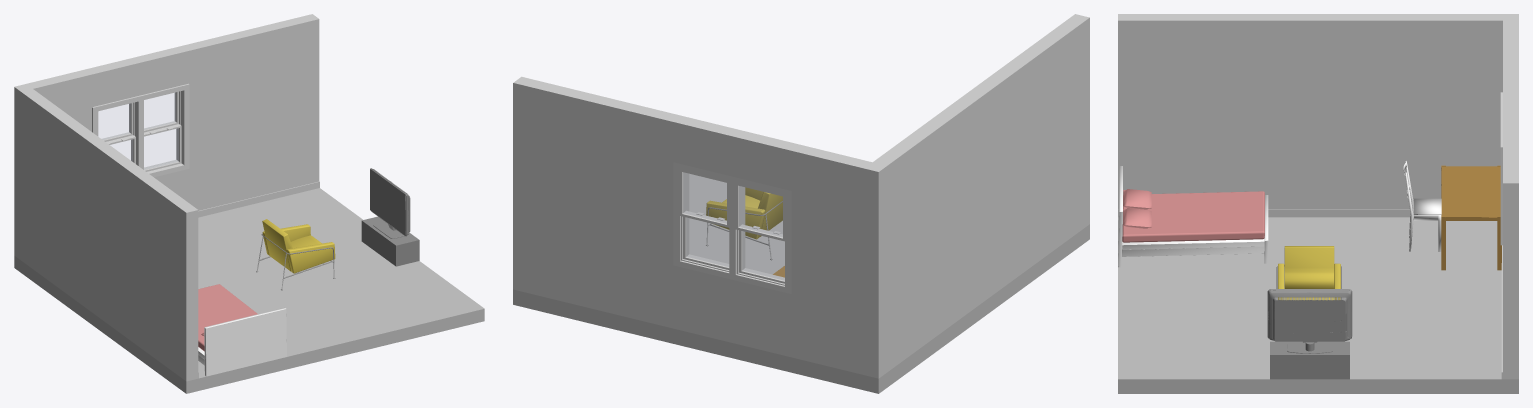
File: L16_W16_furniture3_circulation3.glb
The picture shows the model from 3 angles, left to right: view 1: azimuth 30°, elevation 25°; view 2: azimuth 150°, elevation 25°; view 3: azimuth 270°, elevation 25°; orthographic projection. The views are drawn at different scales.
Bounding box in the file's own units: 200 × 116 × 200.
